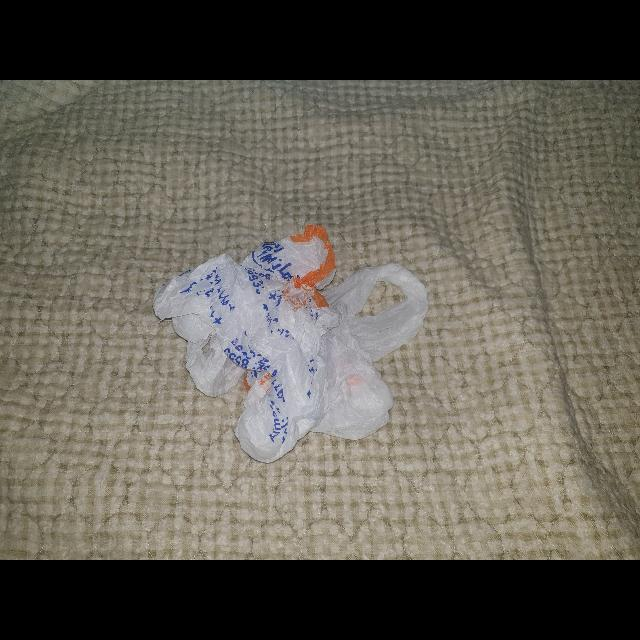plastic_bag: (143, 216, 441, 474)
